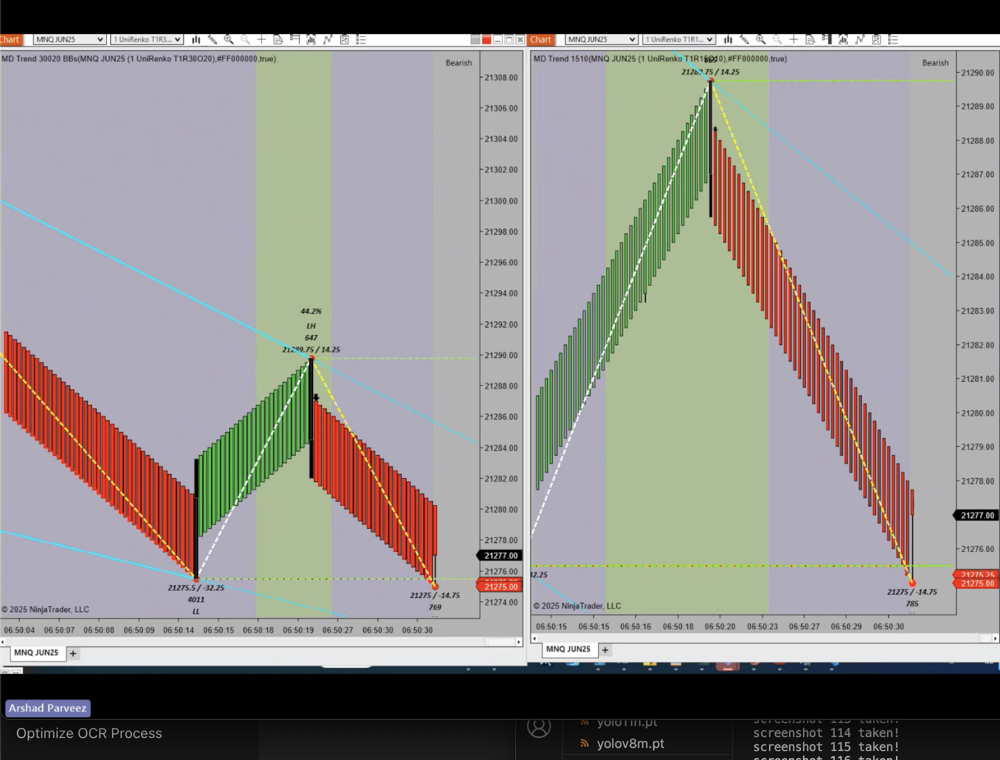LH: (300, 317, 329, 337)
LL: (184, 603, 208, 620)
